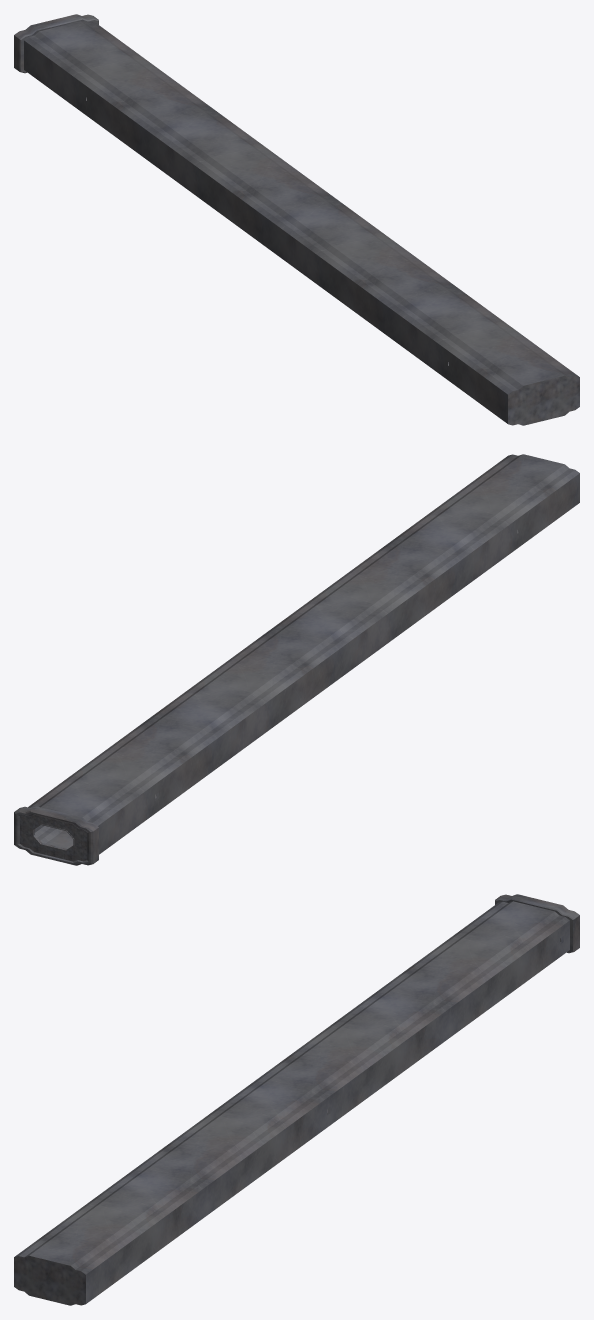
The model's file is Incinerator_Body.fbx.
3 views of the same model, one above another, from view 1: azimuth 30°, elevation 25°; view 2: azimuth 150°, elevation 25°; view 3: azimuth 330°, elevation 25° (orthographic).
Parts seen in each view (by area): view 1: Incinerator_Body; view 2: Incinerator_Body; view 3: Incinerator_Body.
Boxes of the visible parts, left/top/right/bottom form: Incinerator_Body: left=14, top=14, right=579, bottom=425; Incinerator_Body: left=14, top=454, right=579, bottom=865; Incinerator_Body: left=14, top=894, right=579, bottom=1305.
Bounding box in the file's own units: 6.12 × 3.25 × 65.59.
